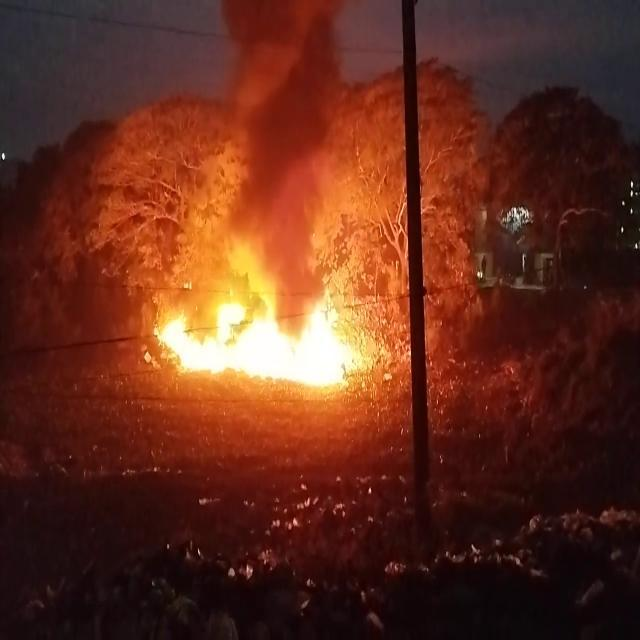Fire: (142, 253, 384, 396)
Smoke: (195, 0, 395, 272)
